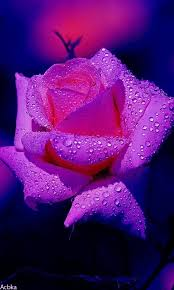lale: (0, 50, 174, 270)
